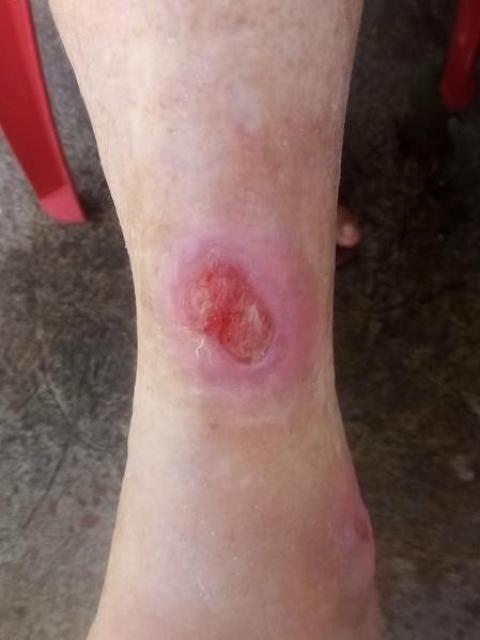wound: (188, 258, 276, 366)
